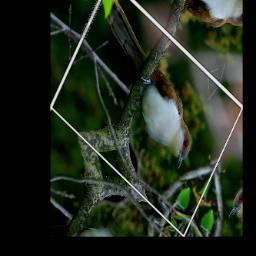Cuckoo: (72, 0, 217, 173)
